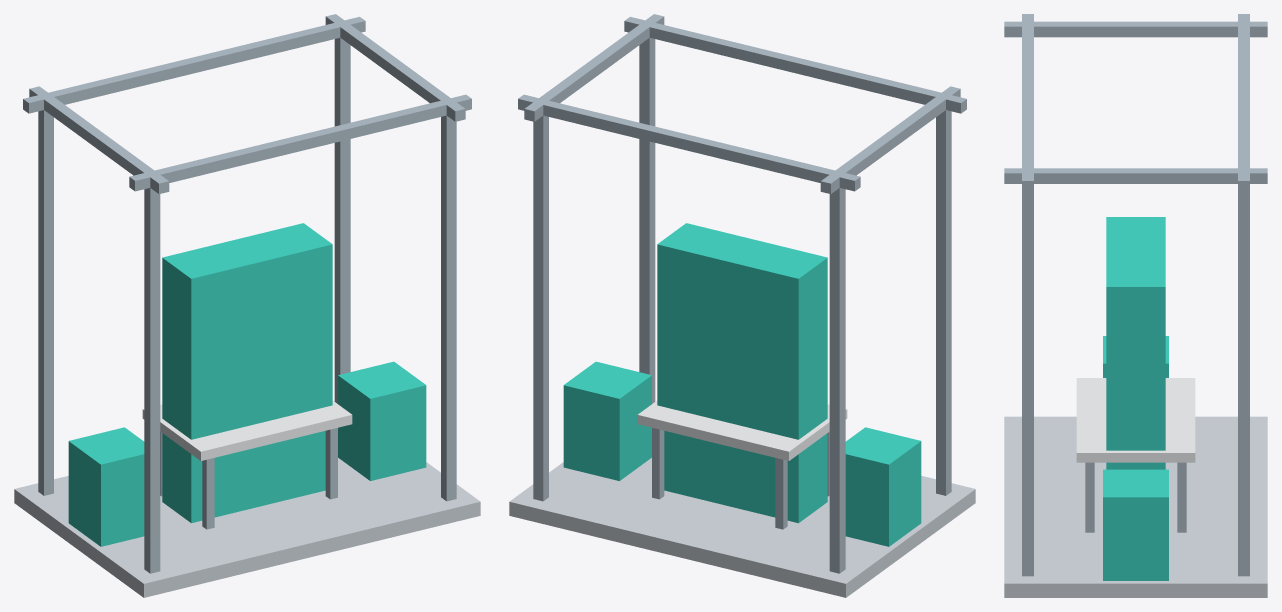
3 renders of one model, left to right at view 1: azimuth 30°, elevation 25°; view 2: azimuth 150°, elevation 25°; view 3: azimuth 270°, elevation 25°, orthographic.
Parts seen in each view (by area): view 1: Exhibition Booth Concept; view 2: Exhibition Booth Concept; view 3: Exhibition Booth Concept.
Part boxes in pixels (x1=…): Exhibition Booth Concept: x1=14, y1=14, x2=480, y2=597; Exhibition Booth Concept: x1=509, y1=14, x2=975, y2=597; Exhibition Booth Concept: x1=1004, y1=14, x2=1267, y2=597.
Size of the model in its own units: 3 by 3.49 by 2.
